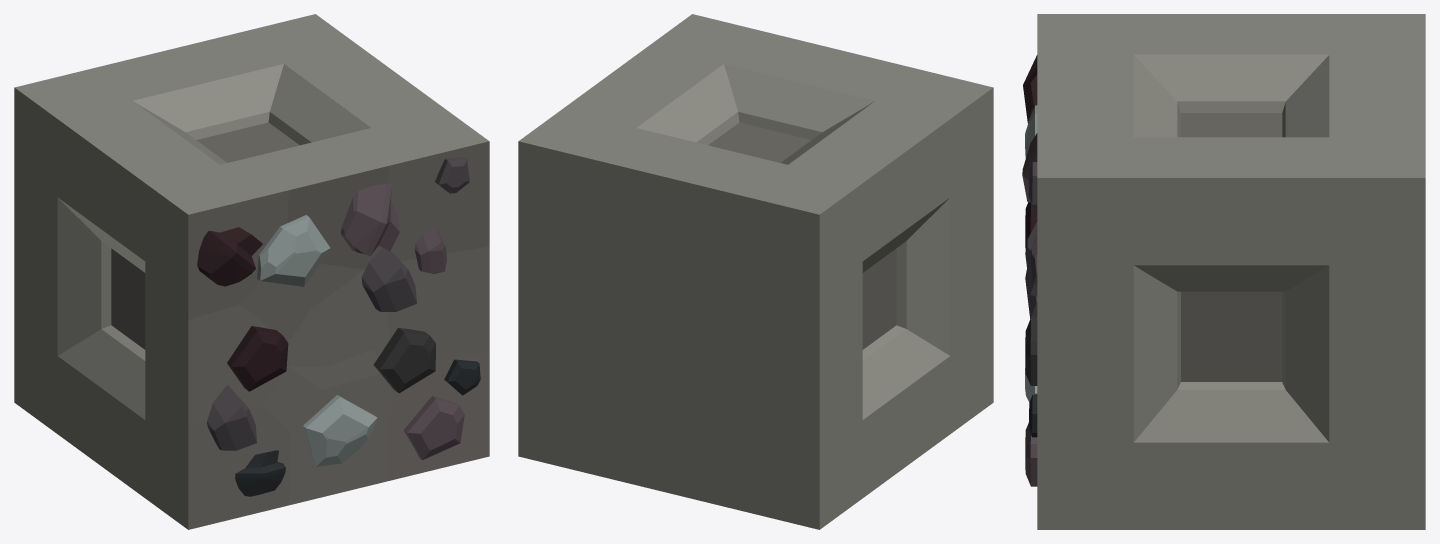
3 renders of one model, left to right at view 1: azimuth 30°, elevation 25°; view 2: azimuth 150°, elevation 25°; view 3: azimuth 270°, elevation 25°, orthographic. The views are drawn at different scales.
Visible parts, largest first — view 1: Cube.115; view 2: Cube.115; view 3: Cube.115.
Part boxes in pixels (x1,y1,x2,y2): Cube.115: (14,14,489,529); Cube.115: (518,14,993,529); Cube.115: (1022,14,1425,529).
Size of the model in its own units: 1 by 1 by 1.04.
Materials: 1 (1 with a texture image).
